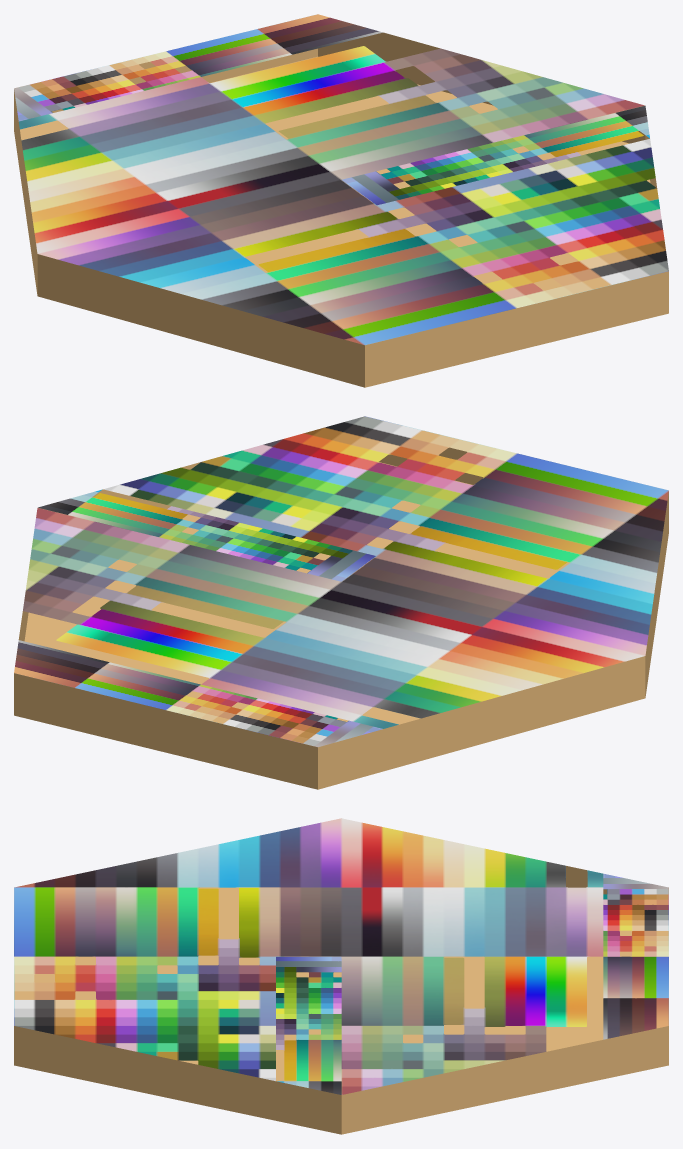
The model's file is Village2.fbx.
The picture shows the model from 3 angles, top to bottom: view 1: azimuth 30°, elevation 25°; view 2: azimuth 150°, elevation 25°; view 3: azimuth 270°, elevation 25°; orthographic projection. The views are drawn at different scales.
Parts seen in each view (by area): view 1: Village2; view 2: Village2; view 3: Village2.
Boxes of the visible parts, box(x1,y1,x2,y2) form: Village2: box(14, 14, 668, 387); Village2: box(14, 416, 668, 789); Village2: box(14, 818, 668, 1134).
Bounding box in the file's own units: 1500 × 100 × 1500.
